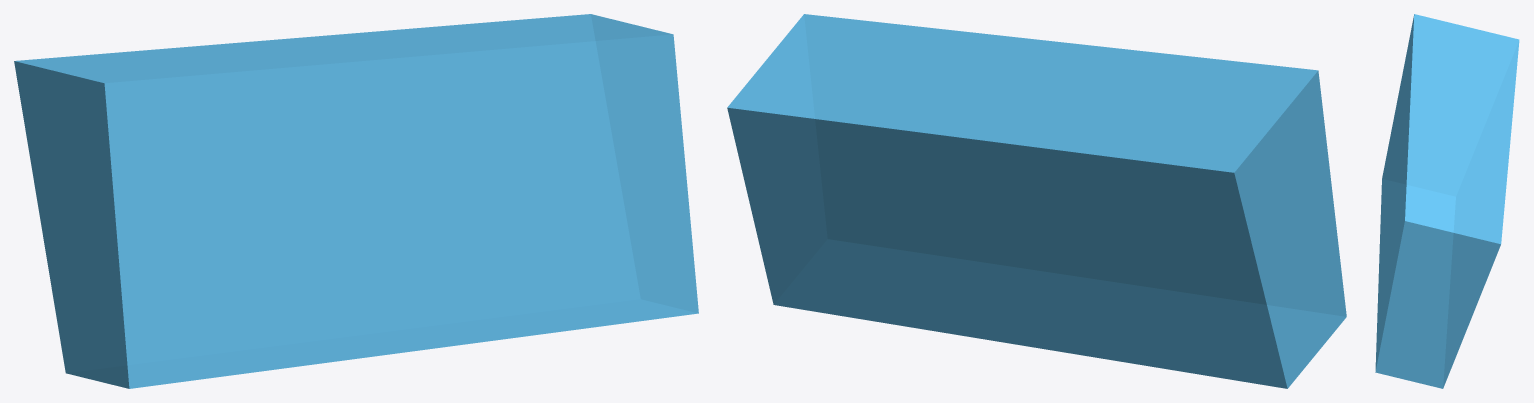
Rendered from Event_421556567_HErechit_71.fbx.
3 views of the same model, side by side, from view 1: azimuth 30°, elevation 25°; view 2: azimuth 150°, elevation 25°; view 3: azimuth 270°, elevation 25° (orthographic). The views are drawn at different scales.
Parts seen in each view (by area): view 1: Model; view 2: Model; view 3: Model.
Part boxes in pixels (left/top/right/bottom): Model: left=14, top=14, right=698, bottom=388; Model: left=727, top=14, right=1346, bottom=388; Model: left=1375, top=14, right=1519, bottom=388.
Bounding box in the file's own units: 1.04 × 0.6552 × 0.3964.
